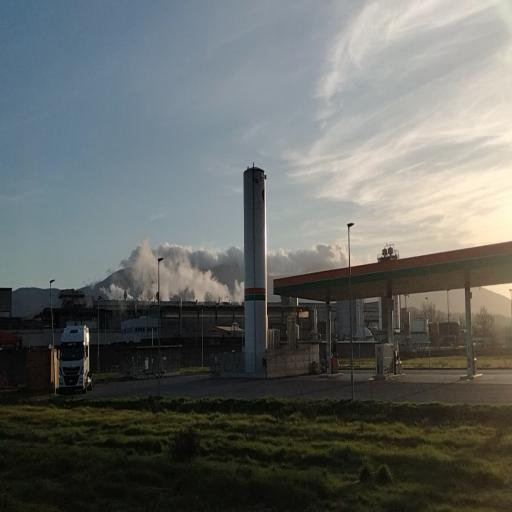leakage: (96, 227, 248, 311)
